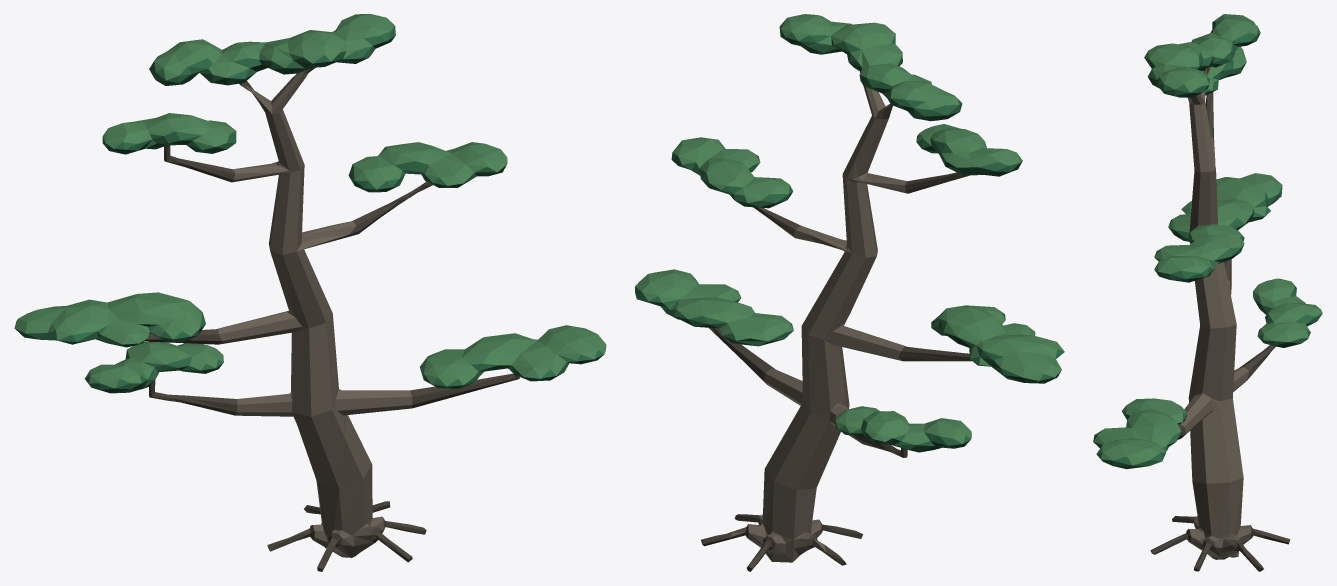
File: ancient-pine-2153-lod1.glb
3 renders of one model, left to right at view 1: azimuth 30°, elevation 25°; view 2: azimuth 150°, elevation 25°; view 3: azimuth 270°, elevation 25°, orthographic. The views are drawn at different scales.
Parts seen in each view (by area): view 1: n12.005, n8.005, n11.005, n9.005, n10.005; view 2: n12.005, n8.005, n11.005, n9.005, n10.005; view 3: n12.005, n8.005, n11.005, n9.005, n10.005.
Boxes of the visible parts, box(x1,y1,x2,y2) form: n12.005: box(14, 14, 606, 388); n8.005: box(217, 71, 412, 557); n11.005: box(15, 24, 606, 389); n9.005: box(144, 67, 519, 571); n10.005: box(15, 35, 603, 393); n12.005: box(635, 14, 1064, 444); n8.005: box(730, 86, 907, 562); n11.005: box(635, 27, 1064, 449); n9.005: box(701, 71, 971, 571); n10.005: box(638, 37, 1062, 452); n12.005: box(1093, 14, 1322, 465); n8.005: box(1181, 68, 1265, 559); n11.005: box(1093, 22, 1322, 465); n9.005: box(1150, 66, 1290, 571); n10.005: box(1101, 41, 1315, 469).
Size of the model in its own units: 5.26 by 5.42 by 2.33.
